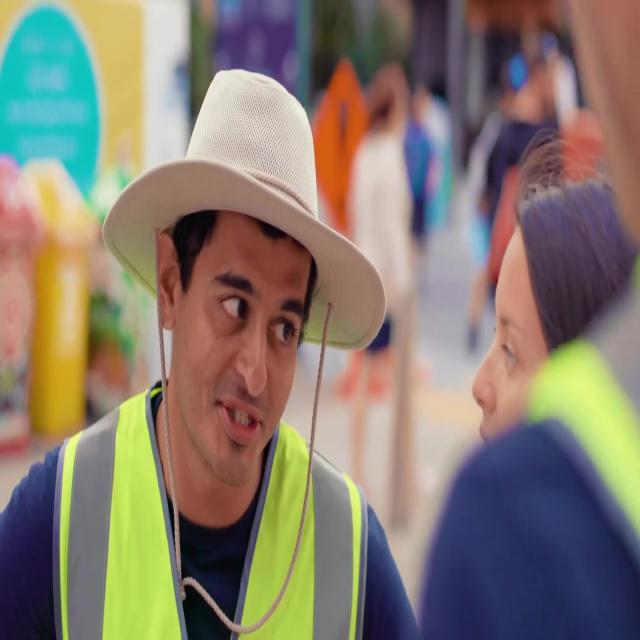Reflective-Jacket: (54, 400, 373, 640)
